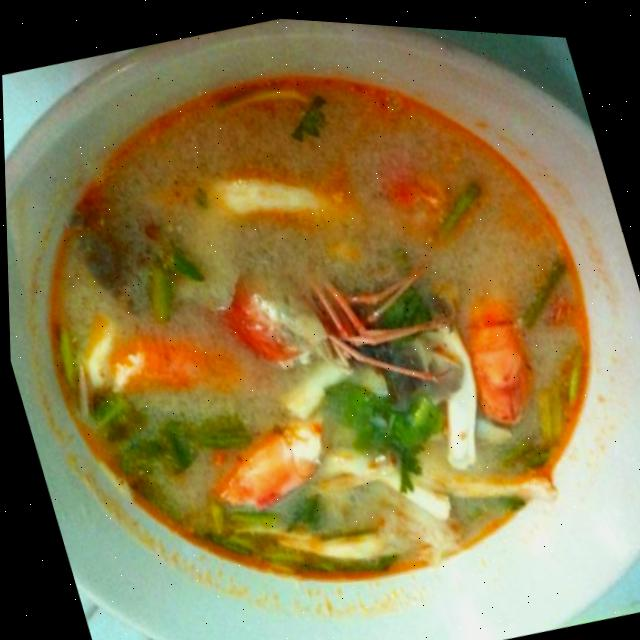汤锅炖物: (5, 42, 609, 638)
